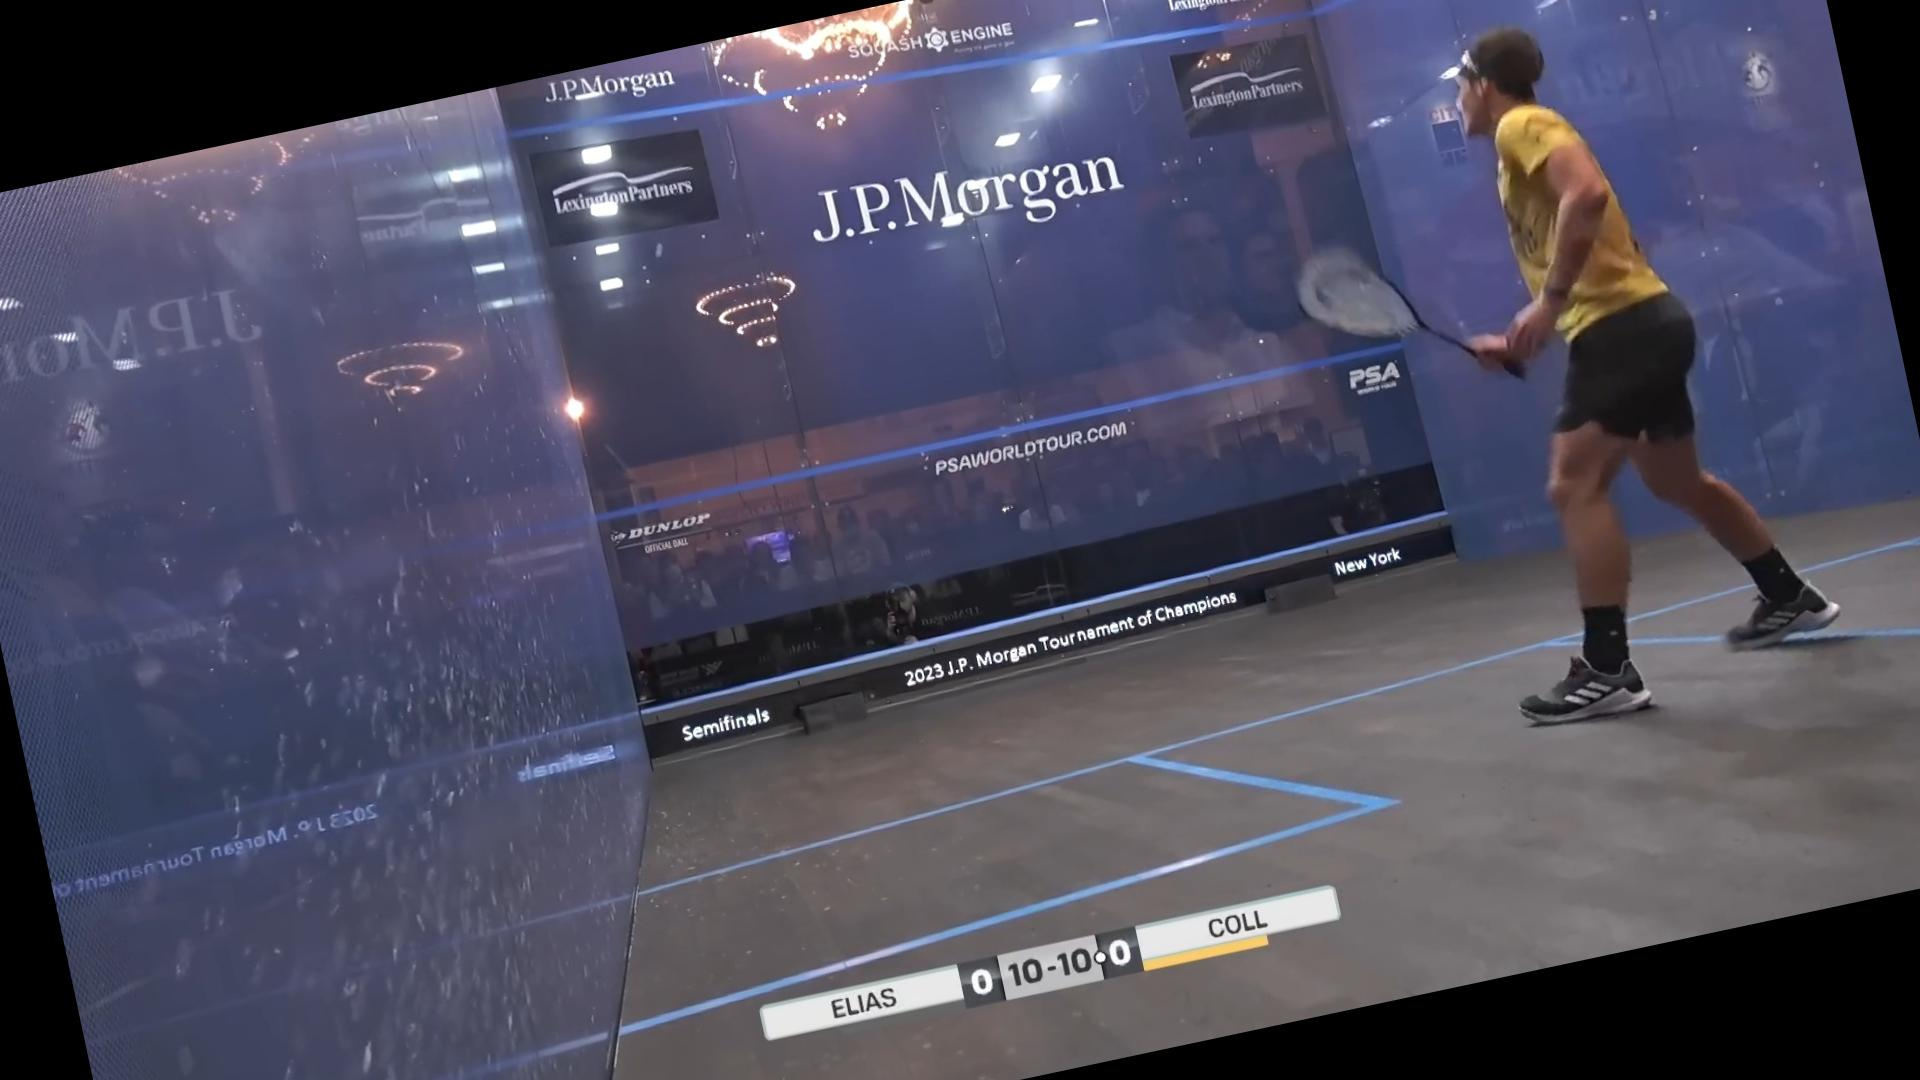Racket: (1282, 211, 1486, 394)
